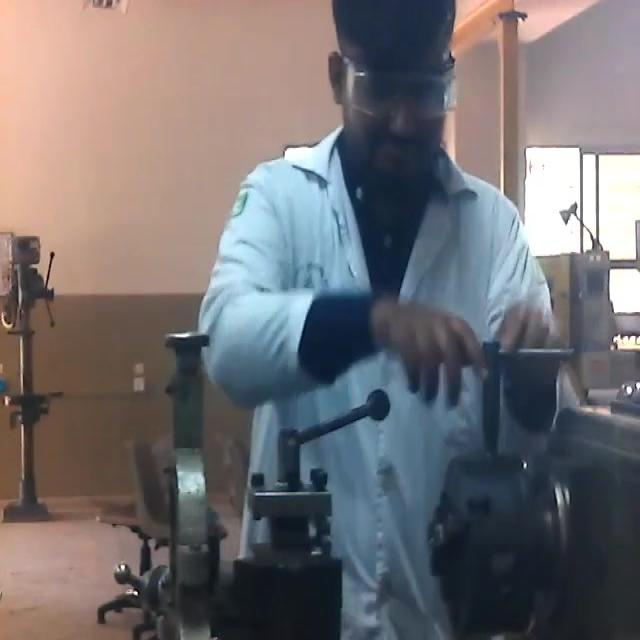googles: (347, 62, 455, 128)
labcoat: (199, 123, 571, 640)
